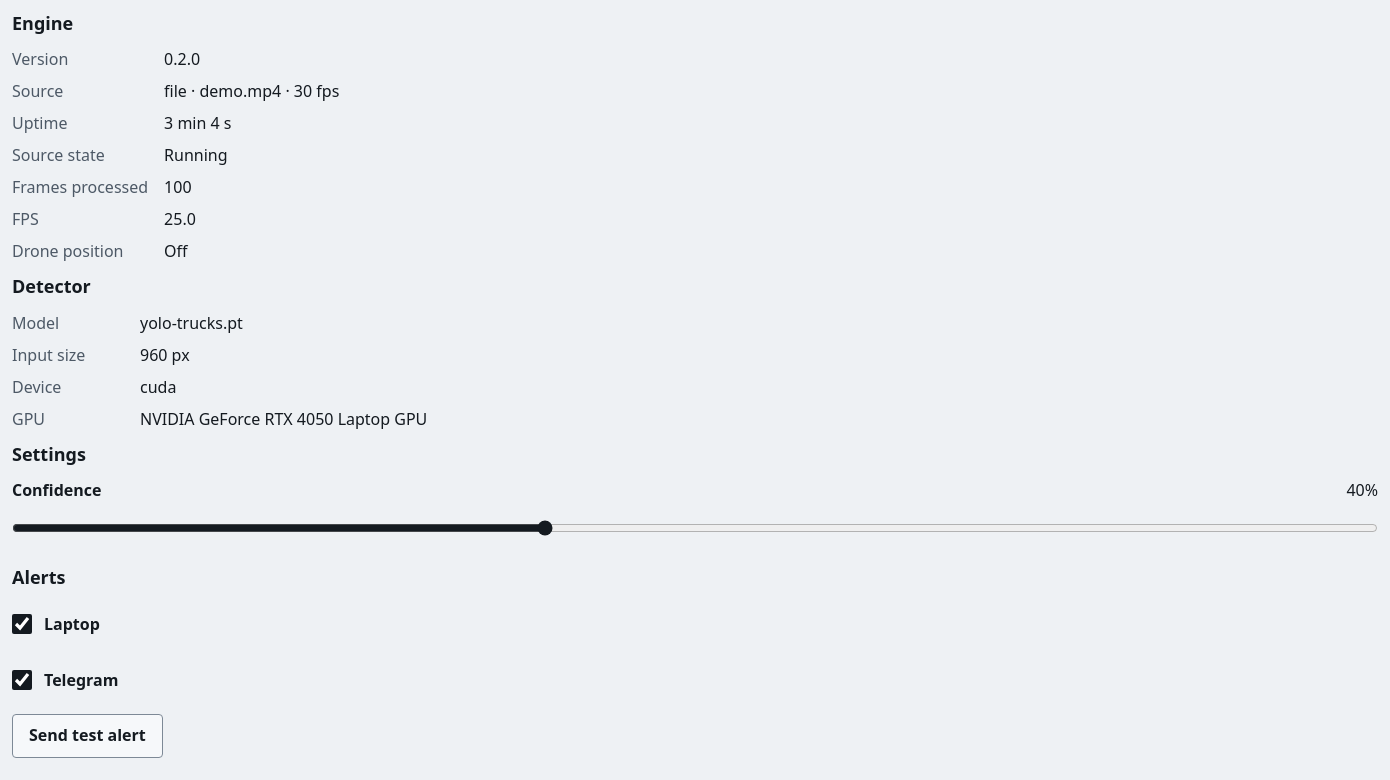
Test case: alert switches render only configured channels and save
The width and height of the screenshot is (1390, 780).
Check: the switch labelled "Laptop" is checked, box [12, 614, 32, 634]
Click the switch labelled "Telegram" at (22, 680), box [12, 670, 32, 690]
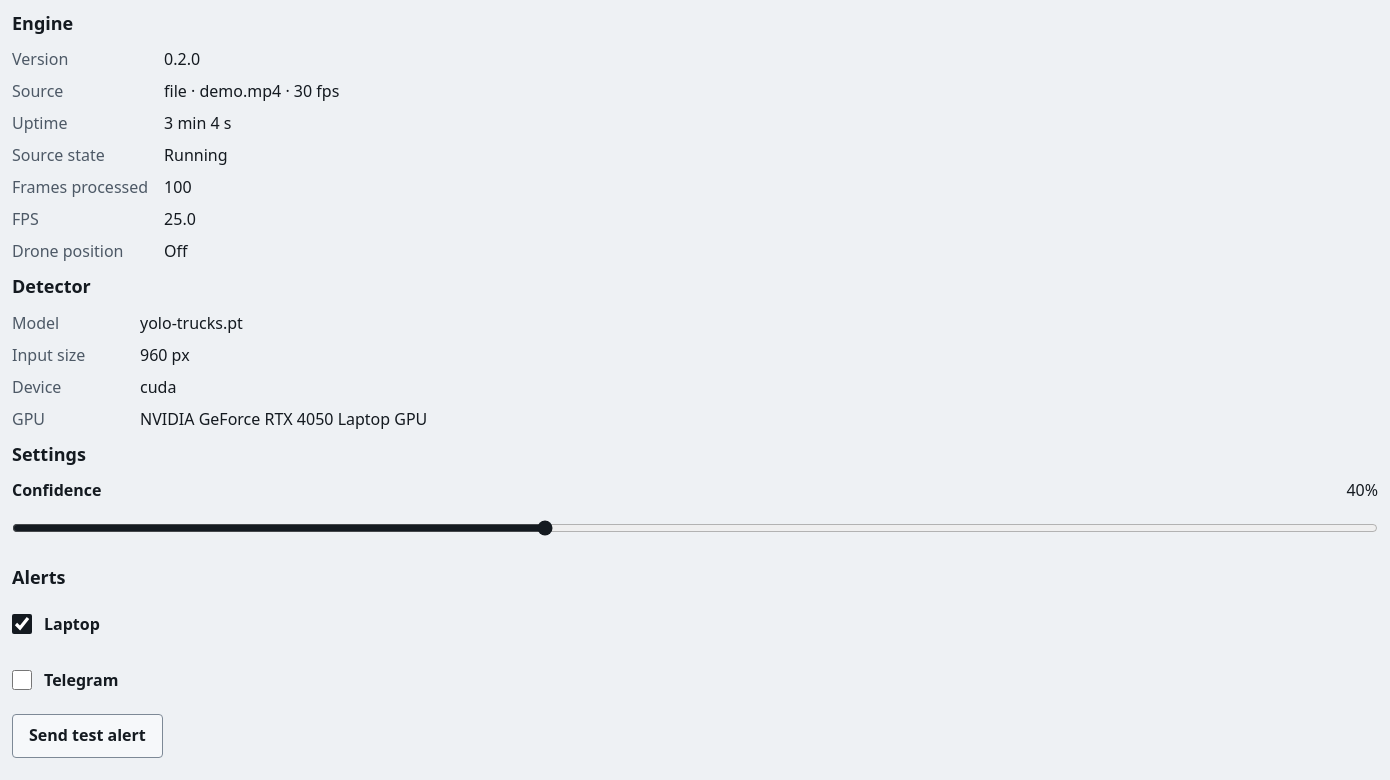
Check: the switch labelled "Laptop" is checked, box [12, 614, 32, 634]
Check: the switch labelled "Telegram" is not checked, box [12, 670, 32, 690]
